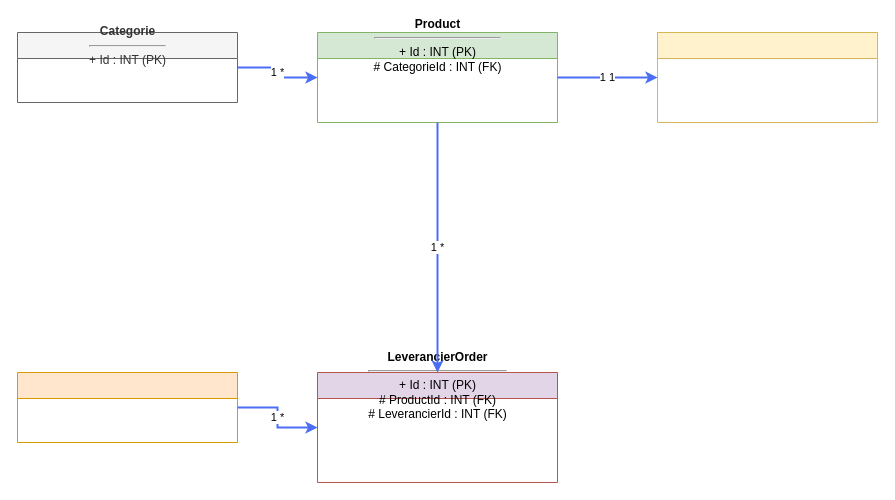
The diagram is 895 pixels wide and 500 high, and some of its shapes have lost their labels. The shapes that lost their labels are listed below. From the top down, each one's box as (x1, y1, x2, y2) in pixels, then its label:
(656, 32, 878, 122): Voorraad + Id : INT (PK) # ProductId : INT (FK)
(16, 372, 238, 442): Leverancier + Id : INT (PK)
